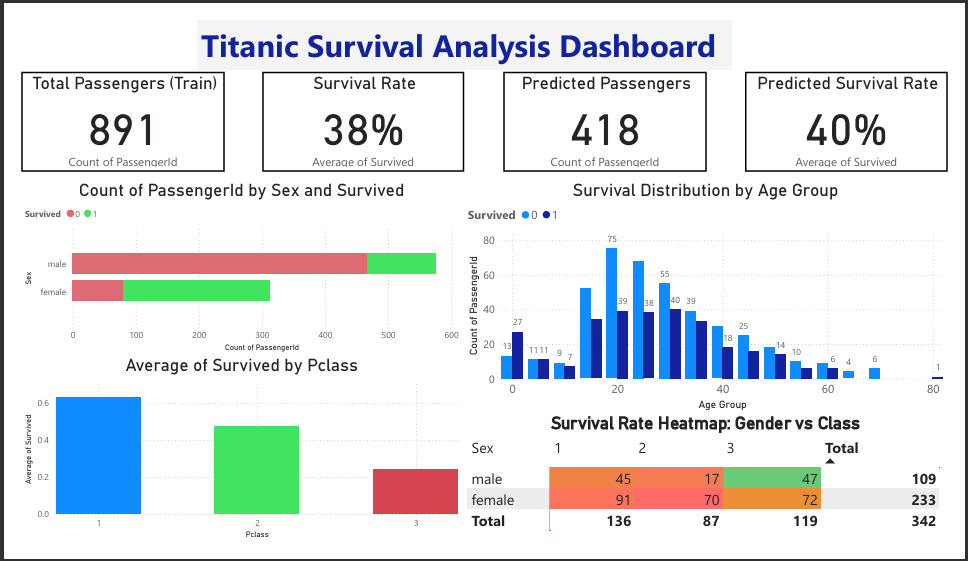

The dashboard page shown, as its layout file describes it:
{"tool":"powerbi","page":{"name":"Page 1","canvas":[1280,720],"ordinal":0},"visuals":[{"type":"card","title":"Total Passengers (Train)","fields":{"Values":["CountNonNull(train.PassengerId)"]},"box":[0.4,70.6,281,137.9],"z":0},{"type":"card","title":"Predicted Passengers","fields":{"Values":["CountNonNull(predicted_full.PassengerId)"]},"box":[665.9,70.6,281,137.9],"z":1000},{"type":"card","title":"Survival Rate","fields":{"Values":["Avg(train.Survived)"]},"box":[333.2,70.6,279.3,137.9],"z":2000},{"type":"card","title":"Predicted Survival Rate","fields":{"Values":["Avg(predicted_full.titanic_submission.Survived)"]},"box":[1000.4,70.6,279.3,137.9],"z":3000},{"type":"barChart","fields":{"Category":["train.Sex"],"Series":["train.Survived"],"Y":["CountNonNull(train.PassengerId)"]},"box":[0,219.5,608.8,242.9],"z":4000},{"type":"clusteredColumnChart","fields":{"Category":["train.Pclass"],"Y":["Avg(train.Survived)"]},"box":[0,462.1,608.6,258.6],"z":5000},{"type":"clusteredColumnChart","title":"Survival Distribution by Age Group","fields":{"Category":["train.Age Group"],"Y":["CountNonNull(train.PassengerId)"],"Series":["train.Survived"]},"box":[611.7,219.5,667.3,323.4],"z":6000},{"type":"pivotTable","title":"Survival Rate Heatmap: Gender vs Class","fields":{"Rows":["train.Sex"],"Columns":["train.Pclass"],"Values":["Sum(train.Survived)"]},"box":[612.1,543.1,667.2,177.6],"z":7000},{"type":"textbox","box":[243.1,0,737.9,69],"z":8000}]}

Visuals, with their boxes in screenshot pixels (x1, y1, x2, y2), scaled from the page's 1280x720 canvas onto the 968x561 screenshot:
"Total Passengers (Train)" card: select_region(0, 55, 213, 162)
"Predicted Passengers" card: select_region(504, 55, 716, 162)
"Survival Rate" card: select_region(252, 55, 463, 162)
"Predicted Survival Rate" card: select_region(757, 55, 967, 162)
barChart - train.Sex x train.Survived: select_region(0, 171, 460, 360)
clusteredColumnChart - train.Pclass x Avg(train.Survived): select_region(0, 360, 460, 560)
"Survival Distribution by Age Group" clusteredColumnChart: select_region(463, 171, 967, 423)
"Survival Rate Heatmap: Gender vs Class" pivotTable: select_region(463, 423, 967, 560)
textbox: select_region(184, 0, 742, 54)
